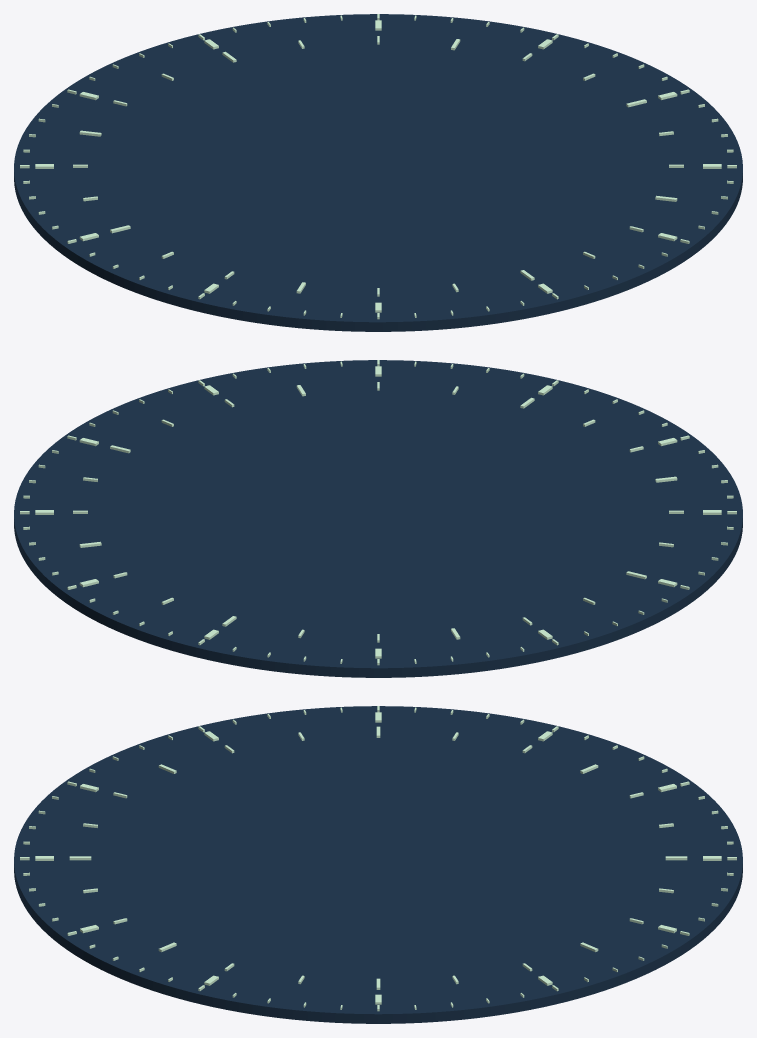
The model's file is dial-gmt-285.glb.
The picture shows the model from 3 angles, top to bottom: view 1: azimuth 30°, elevation 25°; view 2: azimuth 150°, elevation 25°; view 3: azimuth 270°, elevation 25°; orthographic projection.
Visible parts, largest first — view 1: DD_DIAL_SUBSTRATE; view 2: DD_DIAL_SUBSTRATE; view 3: DD_DIAL_SUBSTRATE.
Part boxes in pixels (x1,y1,x2,y2): DD_DIAL_SUBSTRATE: [14, 14, 742, 331]; DD_DIAL_SUBSTRATE: [14, 360, 742, 677]; DD_DIAL_SUBSTRATE: [14, 706, 742, 1023].
Size of the model in its own units: 28.5 by 0.55 by 28.5.
